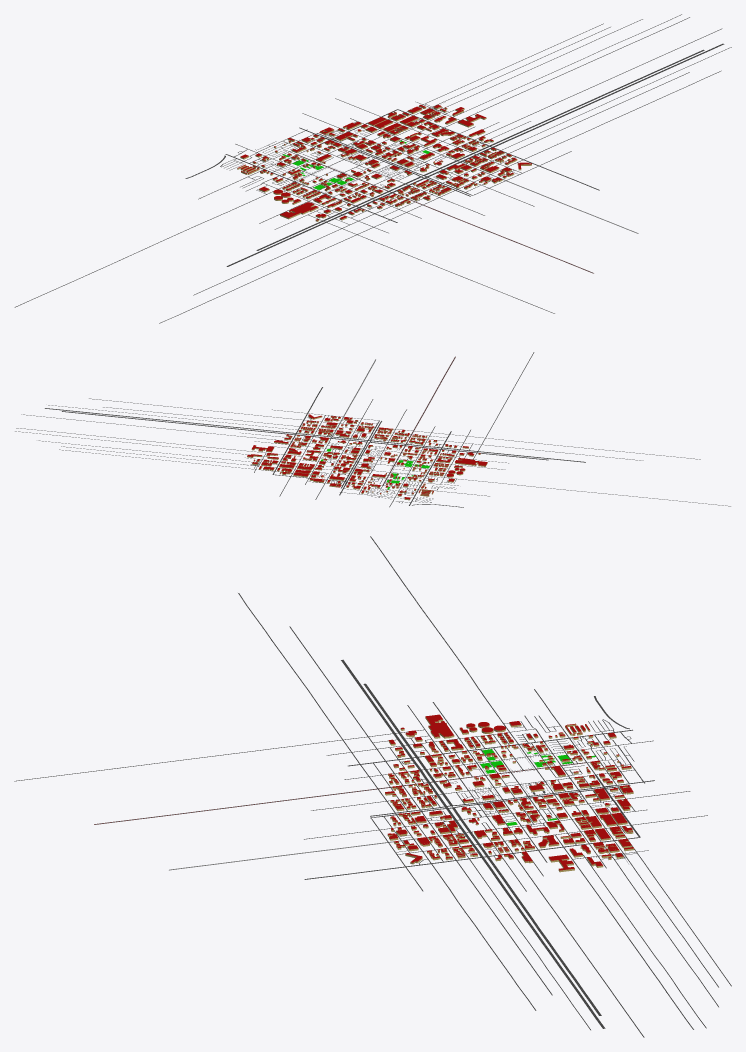
Rendered from galveston-demo.glb.
The picture shows the model from 3 angles, top to bottom: view 1: azimuth 30°, elevation 25°; view 2: azimuth 150°, elevation 25°; view 3: azimuth 270°, elevation 25°; orthographic projection. The views are drawn at different scales.
Parts seen in each view (by area): view 1: Road Avenue L, Road Avenue K; view 2: Road Broadway - Avenue J (×2), Road Avenue L, Road Avenue K, Road Sealy Street - Avenue I, Road Church Street - Avenue F; view 3: no part large enough to name.
Boxes of the visible parts, box(x1,y1,x2,y2) form: Road Avenue L: box(159, 70, 721, 323); Road Avenue K: box(193, 72, 689, 295); Road Broadway - Avenue J (×2): box(44, 408, 295, 434); Road Avenue L: box(89, 398, 700, 459); Road Avenue K: box(103, 407, 643, 460); Road Sealy Street - Avenue I: box(21, 414, 454, 457); Road Church Street - Avenue F: box(373, 470, 730, 506).
Size of the model in its own units: 4540 by 7.5 by 2746.
